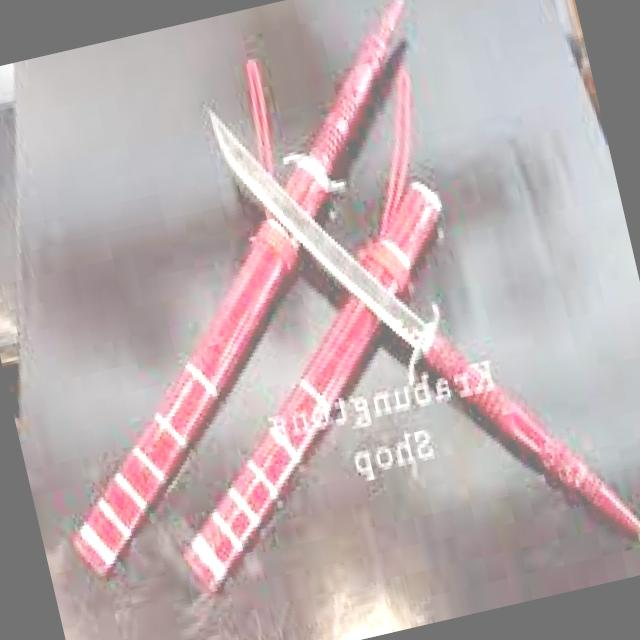long sword: (0, 0, 522, 586), (206, 28, 640, 611)
